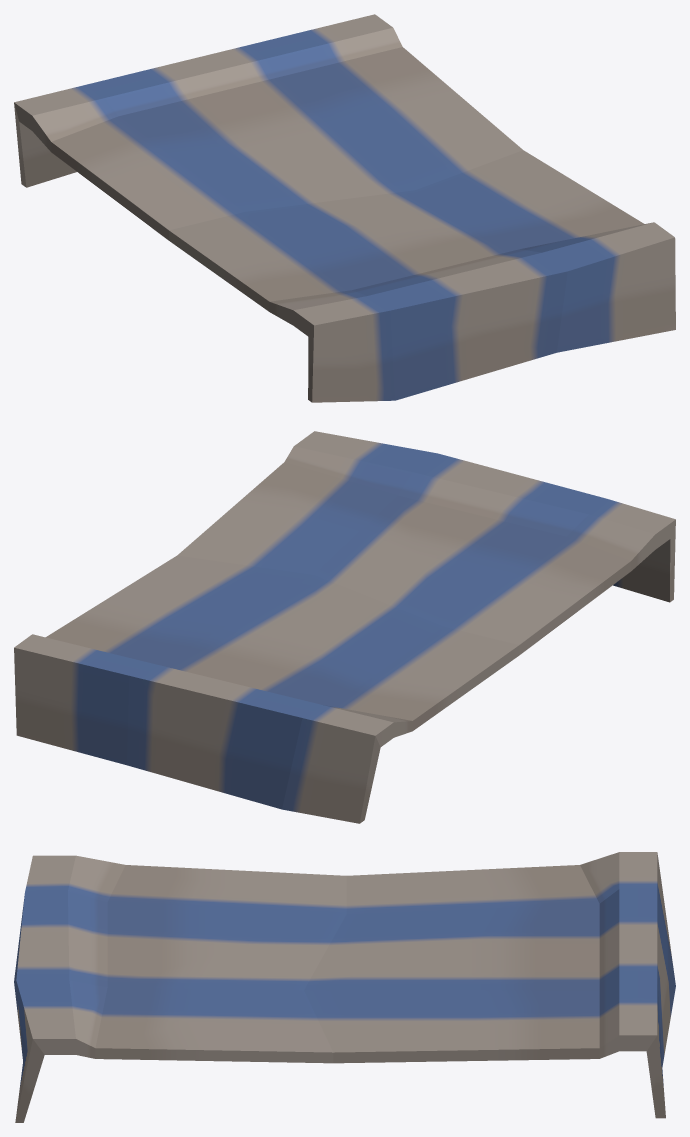
The model's file is SM_Bld_Village_ClothCover_Cloth_03.fbx.
3 views of the same model, one above another, from view 1: azimuth 30°, elevation 25°; view 2: azimuth 150°, elevation 25°; view 3: azimuth 270°, elevation 25° (orthographic). The views are drawn at different scales.
Visible parts, largest first — view 1: SM_Bld_Village_ClothCover_Cloth_03; view 2: SM_Bld_Village_ClothCover_Cloth_03; view 3: SM_Bld_Village_ClothCover_Cloth_03.
Boxes of the visible parts, box(x1,y1,x2,y2) form: SM_Bld_Village_ClothCover_Cloth_03: box(14, 14, 675, 402); SM_Bld_Village_ClothCover_Cloth_03: box(14, 431, 675, 823); SM_Bld_Village_ClothCover_Cloth_03: box(14, 852, 675, 1122).
Bounding box in the file's own units: 177 × 42.02 × 270.
